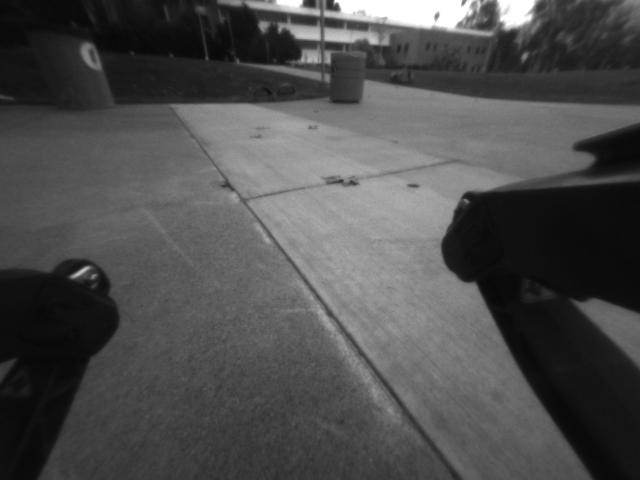trashcan: (30, 26, 120, 120), (326, 52, 371, 103)
